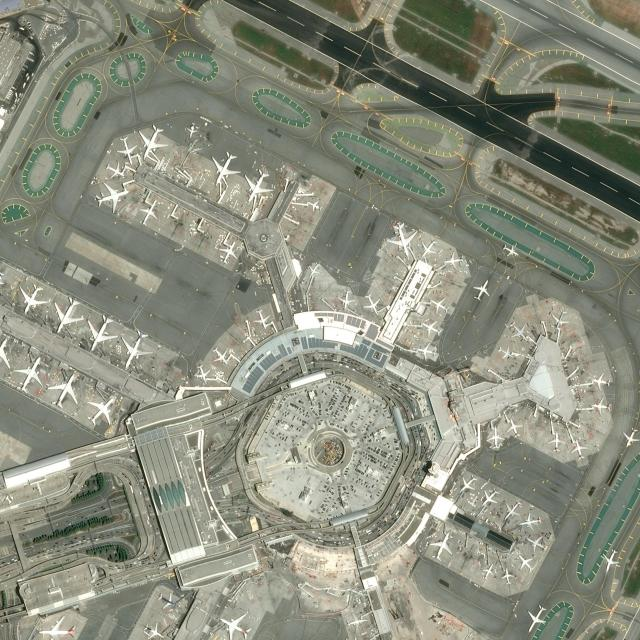1: (38, 614, 76, 640), (0, 337, 11, 369)
aircraft: (121, 328, 153, 369), (88, 313, 119, 351), (54, 296, 84, 334), (12, 356, 42, 394), (95, 180, 130, 212), (47, 372, 78, 408), (138, 124, 168, 160), (386, 222, 416, 256), (244, 168, 274, 202), (211, 150, 240, 184), (19, 282, 48, 314), (86, 396, 114, 426), (219, 614, 251, 640), (428, 530, 452, 562), (138, 197, 158, 227), (527, 604, 546, 634), (116, 136, 136, 163), (518, 512, 541, 532), (218, 241, 238, 264), (346, 613, 367, 633), (104, 160, 125, 180), (442, 251, 464, 270), (337, 289, 356, 311), (363, 292, 380, 316), (546, 432, 566, 452), (416, 342, 437, 361), (142, 622, 164, 640), (526, 535, 548, 553), (486, 426, 504, 448), (552, 308, 570, 330), (602, 548, 619, 571), (590, 372, 610, 391), (503, 499, 521, 520), (509, 321, 527, 342), (194, 364, 212, 385), (420, 320, 442, 337), (472, 280, 489, 302), (253, 308, 270, 330), (157, 592, 177, 610), (481, 486, 499, 506), (570, 440, 588, 460), (590, 397, 610, 415), (459, 474, 477, 493), (622, 427, 639, 447), (430, 297, 450, 314), (420, 238, 437, 258), (518, 554, 534, 574), (506, 418, 522, 438), (212, 346, 228, 366), (502, 244, 519, 258), (308, 262, 322, 278), (501, 568, 514, 585), (481, 564, 494, 580), (498, 346, 514, 358), (186, 122, 198, 138), (308, 200, 322, 212)
